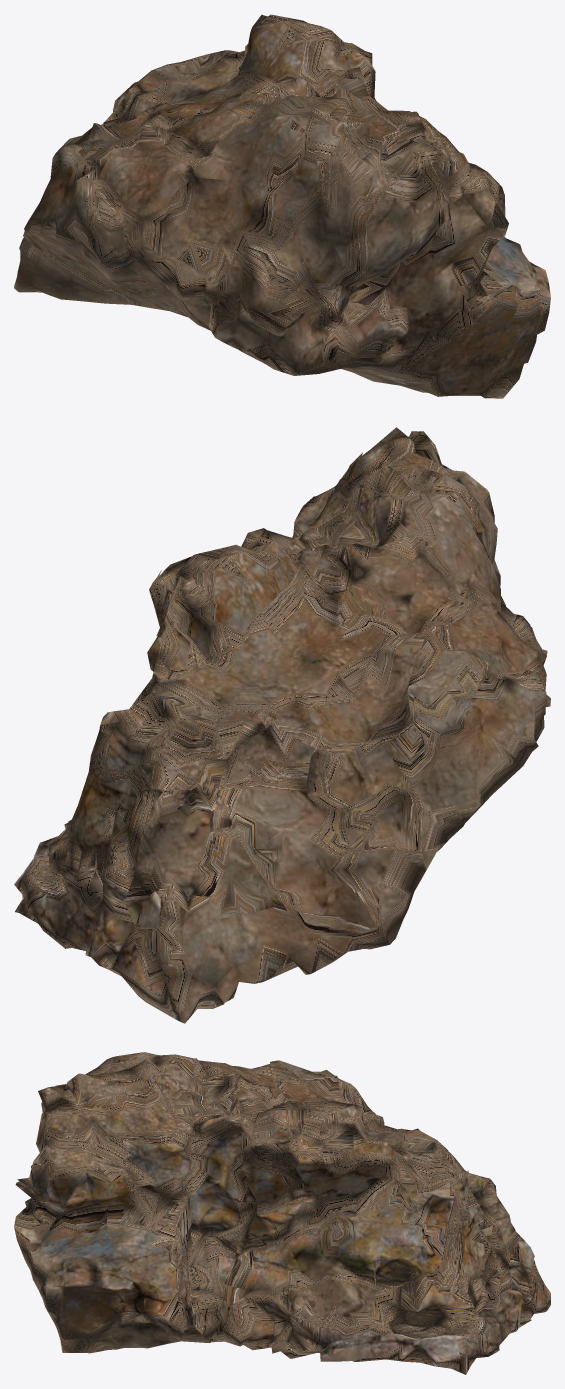
File: boulder_01_lod1.glb
3 renders of one model, top to bottom at view 1: azimuth 30°, elevation 25°; view 2: azimuth 150°, elevation 25°; view 3: azimuth 270°, elevation 25°, orthographic. The views are drawn at different scales.
Visible parts, largest first — view 1: boulder_01; view 2: boulder_01; view 3: boulder_01.
Part boxes in pixels (x1,y1,x2,y2): boulder_01: (14,14,550,398); boulder_01: (14,427,550,1023); boulder_01: (14,1052,550,1374).
Bounding box in the file's own units: 1.26 × 0.9988 × 1.8.
Materials: 1 (1 with a texture image).
